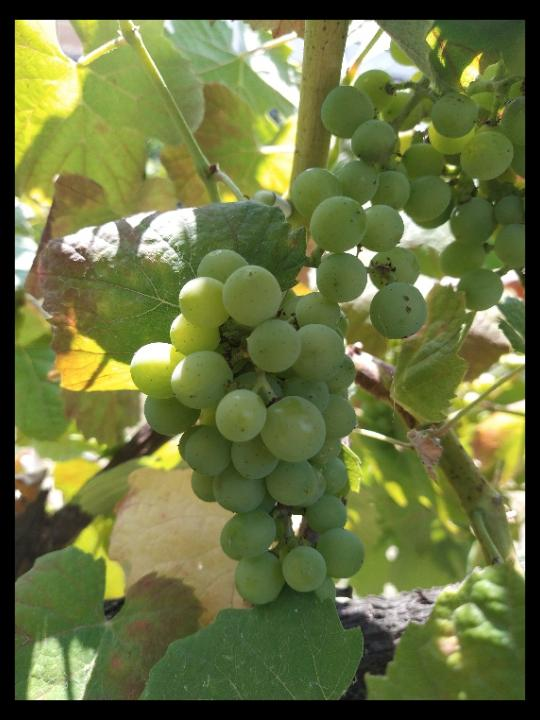grape: (126, 245, 365, 611), (288, 68, 519, 341)
